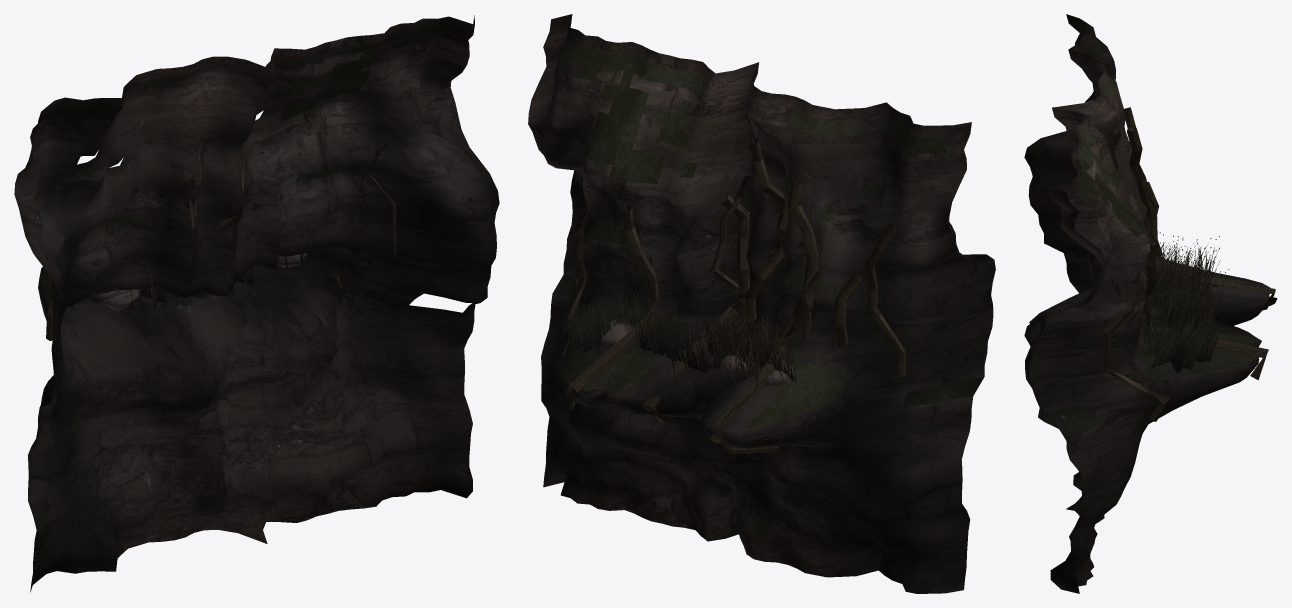
Rendered from cliff_wall_4m_ledge_roots.glb.
3 views of the same model, side by side, from view 1: azimuth 30°, elevation 25°; view 2: azimuth 150°, elevation 25°; view 3: azimuth 270°, elevation 25° (orthographic). The views are drawn at different scales.
Visible parts, largest first — view 1: cliff_wall_4m_ledge_roots; view 2: cliff_wall_4m_ledge_roots; view 3: cliff_wall_4m_ledge_roots.
Boxes of the visible parts, <box> form: cliff_wall_4m_ledge_roots: <box>14,15,499,592</box>; cliff_wall_4m_ledge_roots: <box>528,14,995,593</box>; cliff_wall_4m_ledge_roots: <box>1024,14,1277,593</box>.
Bounding box in the file's own units: 4 × 4.2 × 2.4.
Materials: 5 (5 with a texture image).
